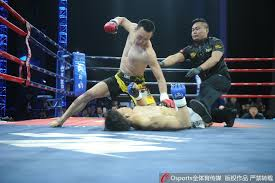fall: (105, 91, 221, 132)
